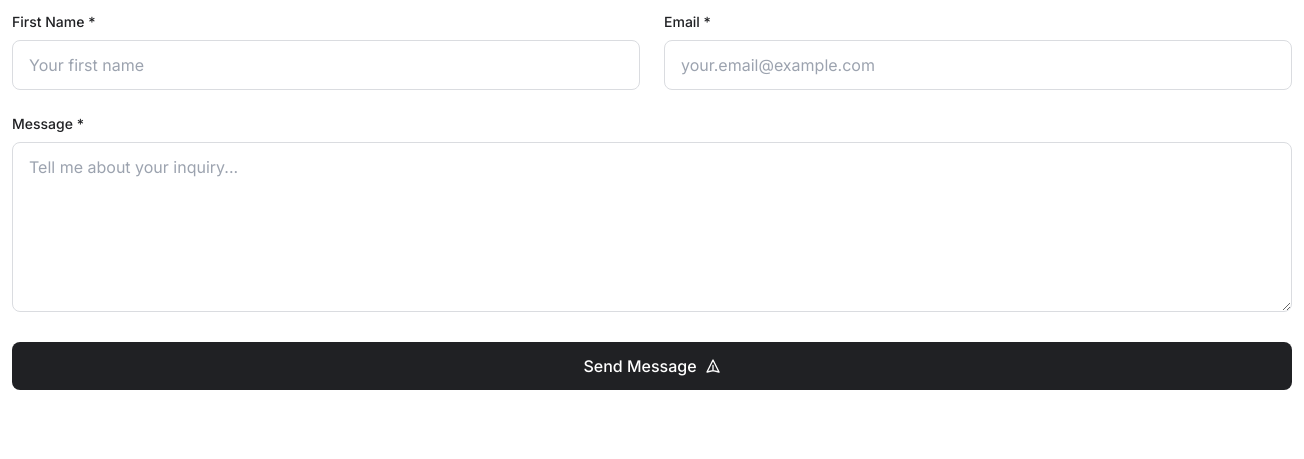
Test: ContactForm › Form Validation › validates required fields
The image size is (1304, 459).
Click the button "Send Message".
click(652, 366)  # box [12, 342, 1292, 390]
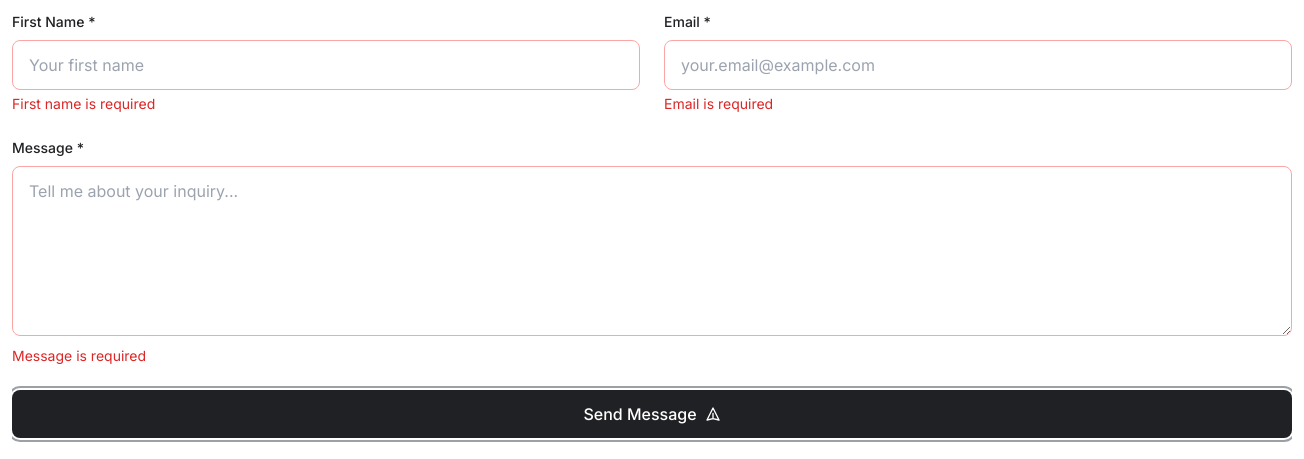
Expected: the text "First name is required" is shown, [12, 95, 155, 112]
Expected: the text "Email is required" is shown, [664, 95, 773, 112]
Expected: the text "Message is required" is shown, [12, 347, 146, 364]
